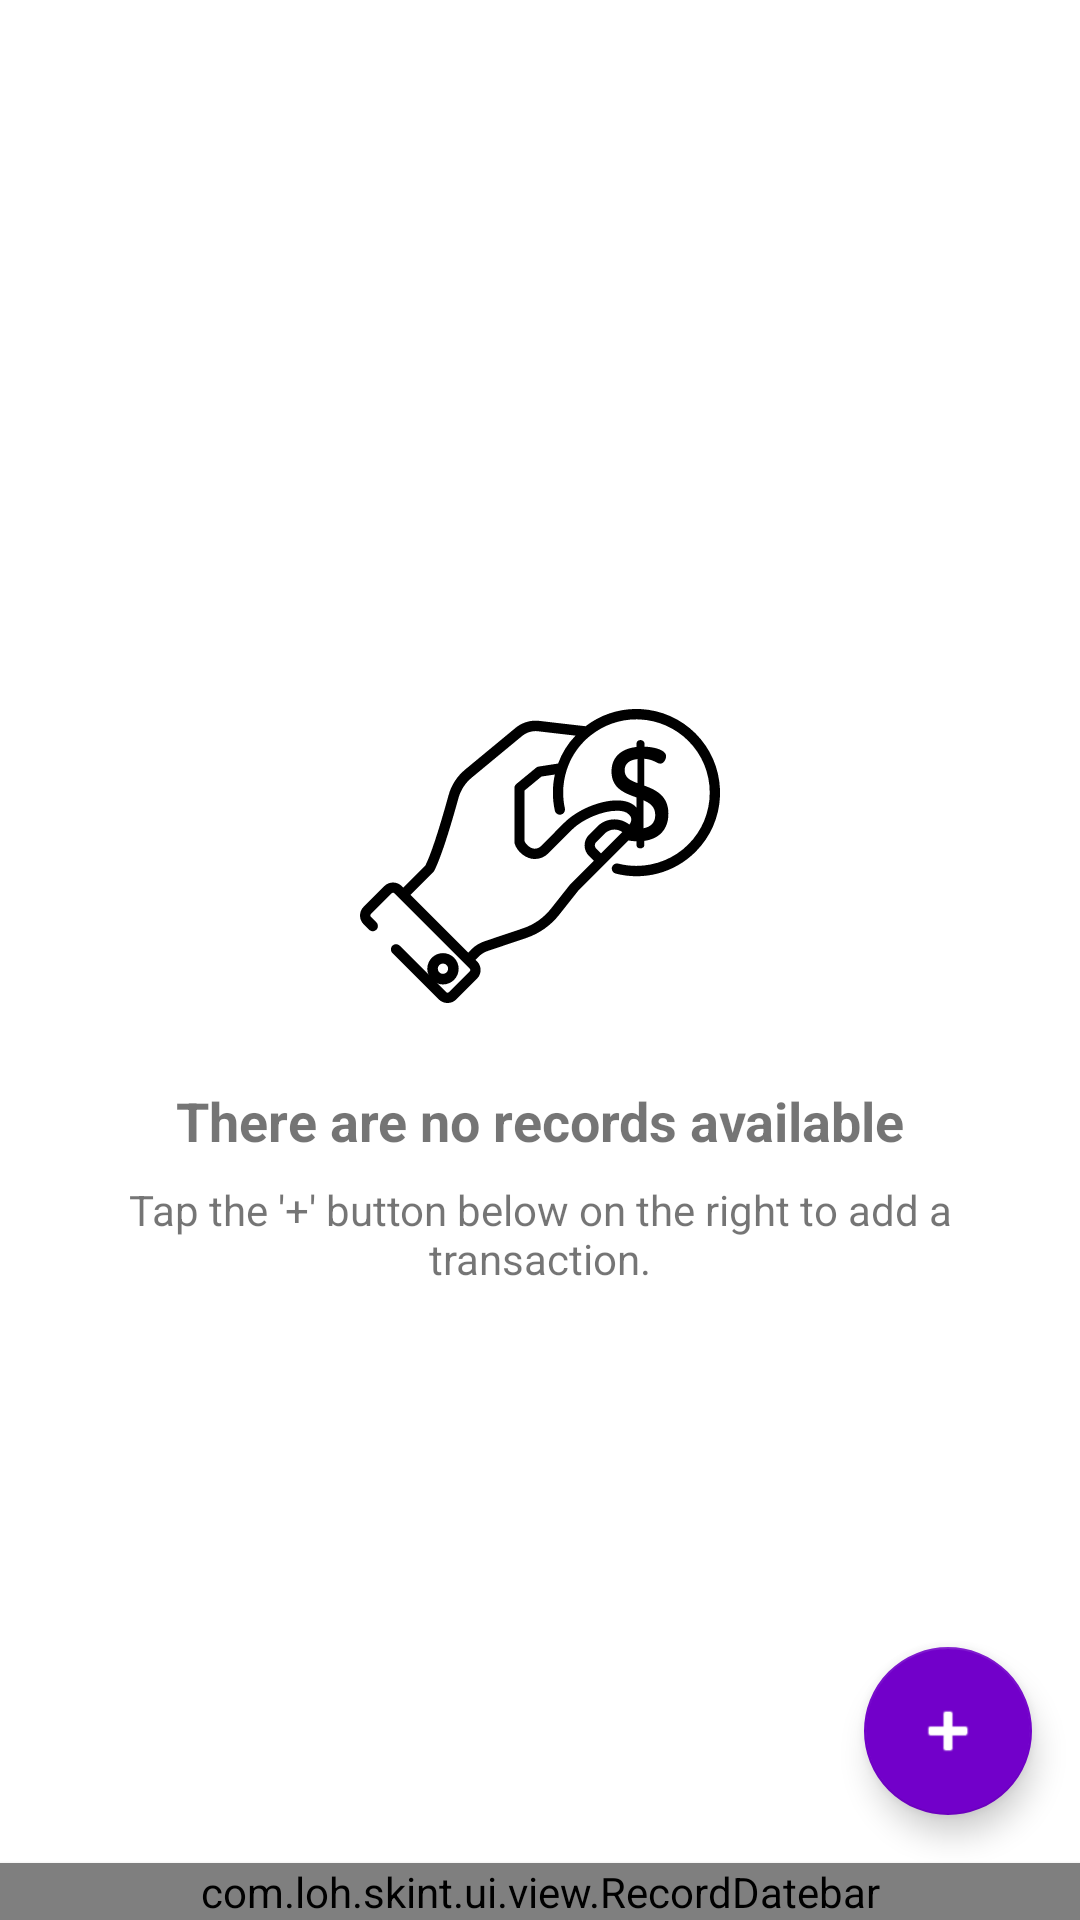

Icons on this 1080 x 1920 Android screen, each with the point to tap as (x=x, y=y):
add: (x=948, y=1731)
coin hand: (x=540, y=856)
